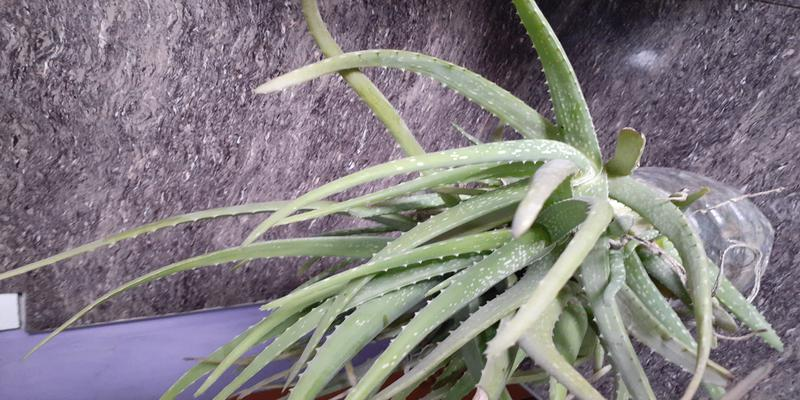Aloevera: (196, 134, 666, 385)
